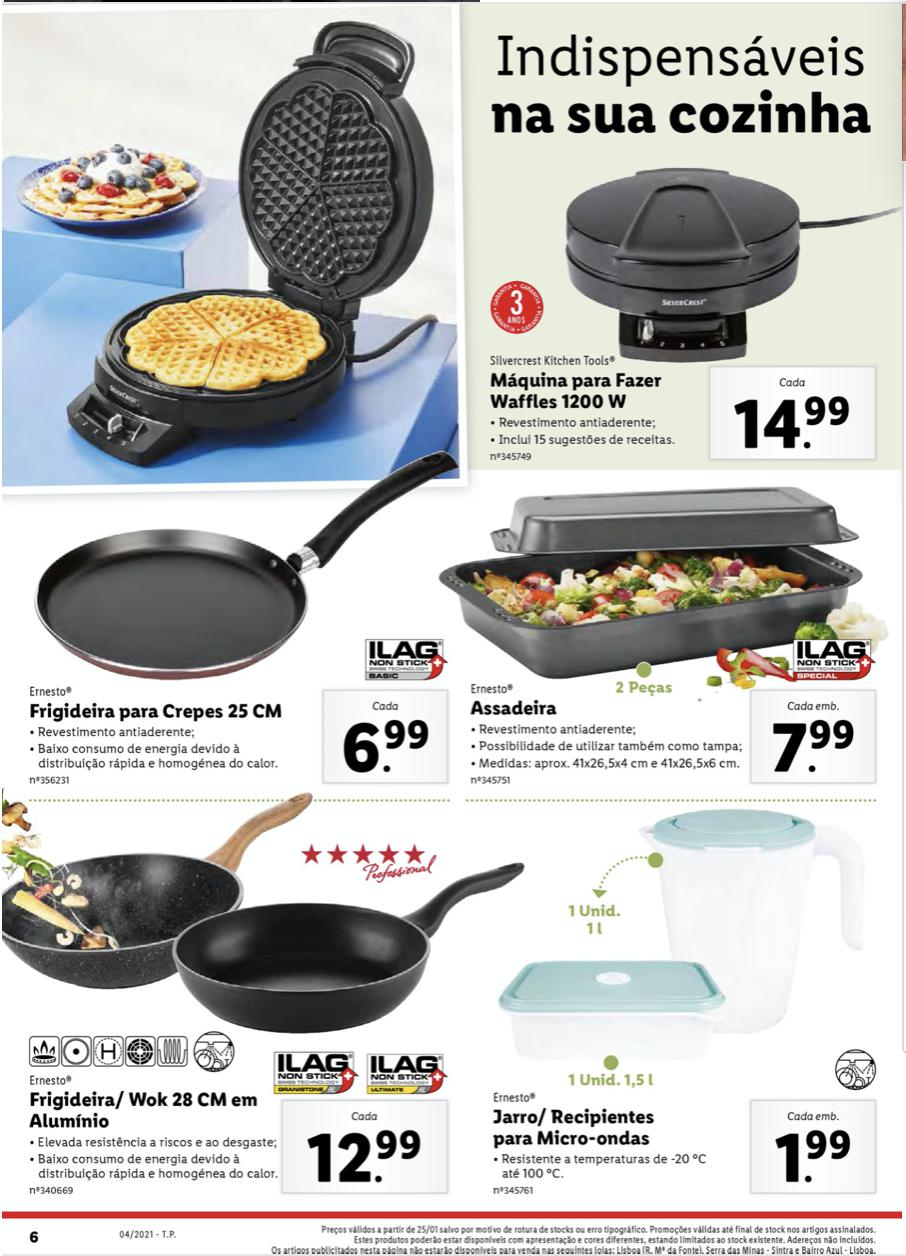name: (24, 1088, 265, 1132), (482, 369, 667, 411), (490, 1108, 662, 1152), (28, 699, 290, 725), (468, 697, 563, 719)
price: (729, 389, 854, 457), (299, 1125, 428, 1189), (767, 716, 859, 777), (340, 716, 434, 775), (776, 1127, 857, 1186)
product: (40, 25, 893, 460), (12, 814, 490, 1199), (476, 804, 893, 1194), (12, 480, 460, 800), (460, 477, 898, 793)
